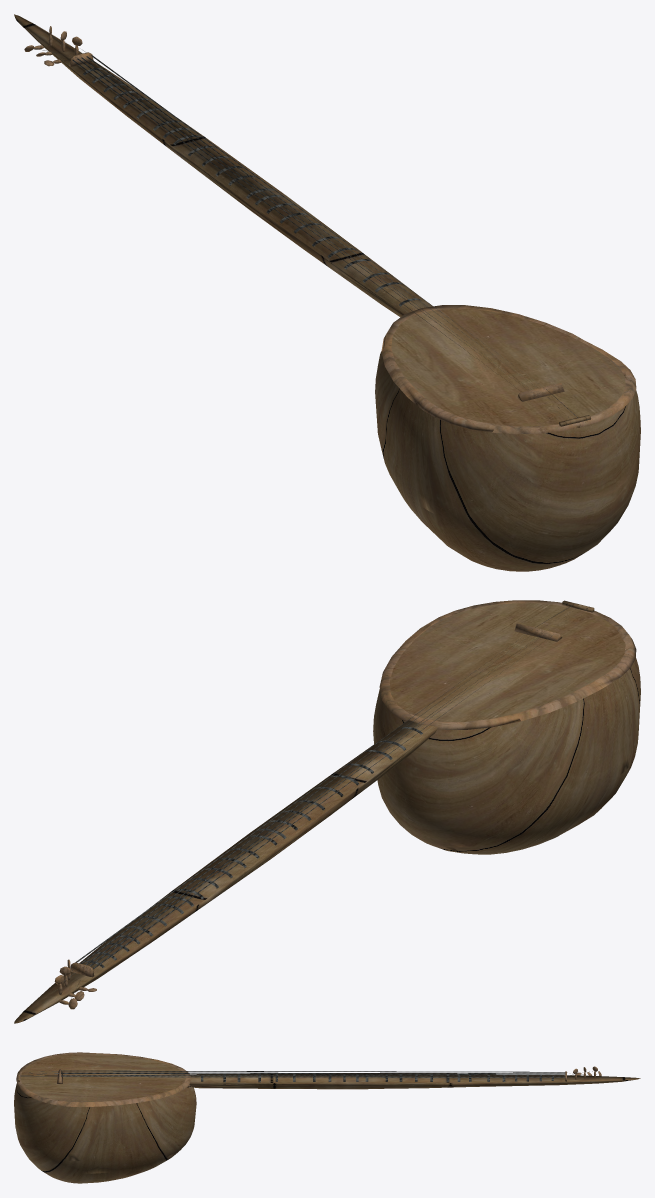
Rendered from m_baglama.glb.
3 views of the same model, one above another, from view 1: azimuth 30°, elevation 25°; view 2: azimuth 150°, elevation 25°; view 3: azimuth 270°, elevation 25° (orthographic). The views are drawn at different scales.
Visible parts, largest first — view 1: Icosphere_3, Cone_1, Circle_0; view 2: Icosphere_3, Cone_1, Circle_0; view 3: Icosphere_3, Circle_0, Cone_1.
Boxes of the visible parts, x1,y1,x2,y2 form: Icosphere_3: [14, 14, 640, 571]; Cone_1: [24, 26, 636, 434]; Circle_0: [34, 35, 577, 417]; Icosphere_3: [14, 603, 640, 1023]; Cone_1: [54, 600, 636, 1009]; Circle_0: [63, 604, 573, 998]; Icosphere_3: [14, 1053, 640, 1183]; Circle_0: [20, 1070, 596, 1084]; Cone_1: [16, 1052, 601, 1107].
Size of the model in its own units: 0.1772 by 0.1603 by 0.8365.
4 materials, 4 textured.
